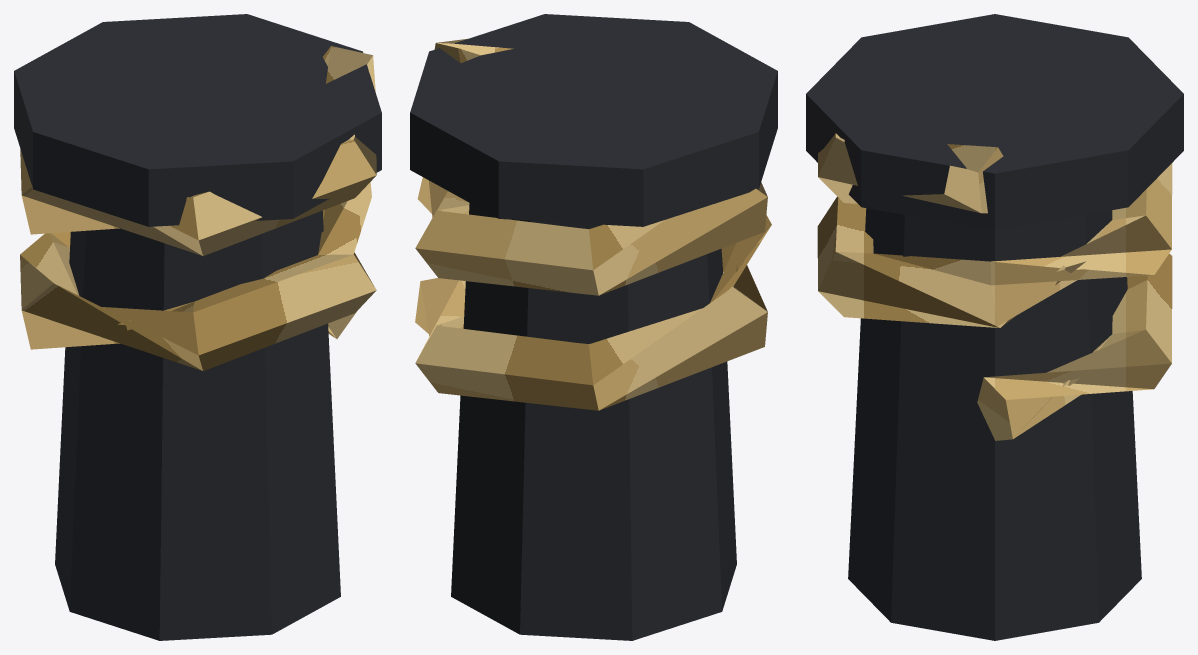
Rendered from bollard.glb.
The picture shows the model from 3 angles, left to right: view 1: azimuth 30°, elevation 25°; view 2: azimuth 150°, elevation 25°; view 3: azimuth 270°, elevation 25°; orthographic projection.
Parts seen in each view (by area): view 1: bollard; view 2: bollard; view 3: bollard.
Part boxes in pixels (box(x1,y1,x2,y2)): bollard: box(14, 14, 381, 640); bollard: box(410, 14, 777, 640); bollard: box(806, 14, 1183, 640).
Size of the model in its own units: 0.3825 by 0.5223 by 0.36.
Materials: 2 (1 with a texture image).
